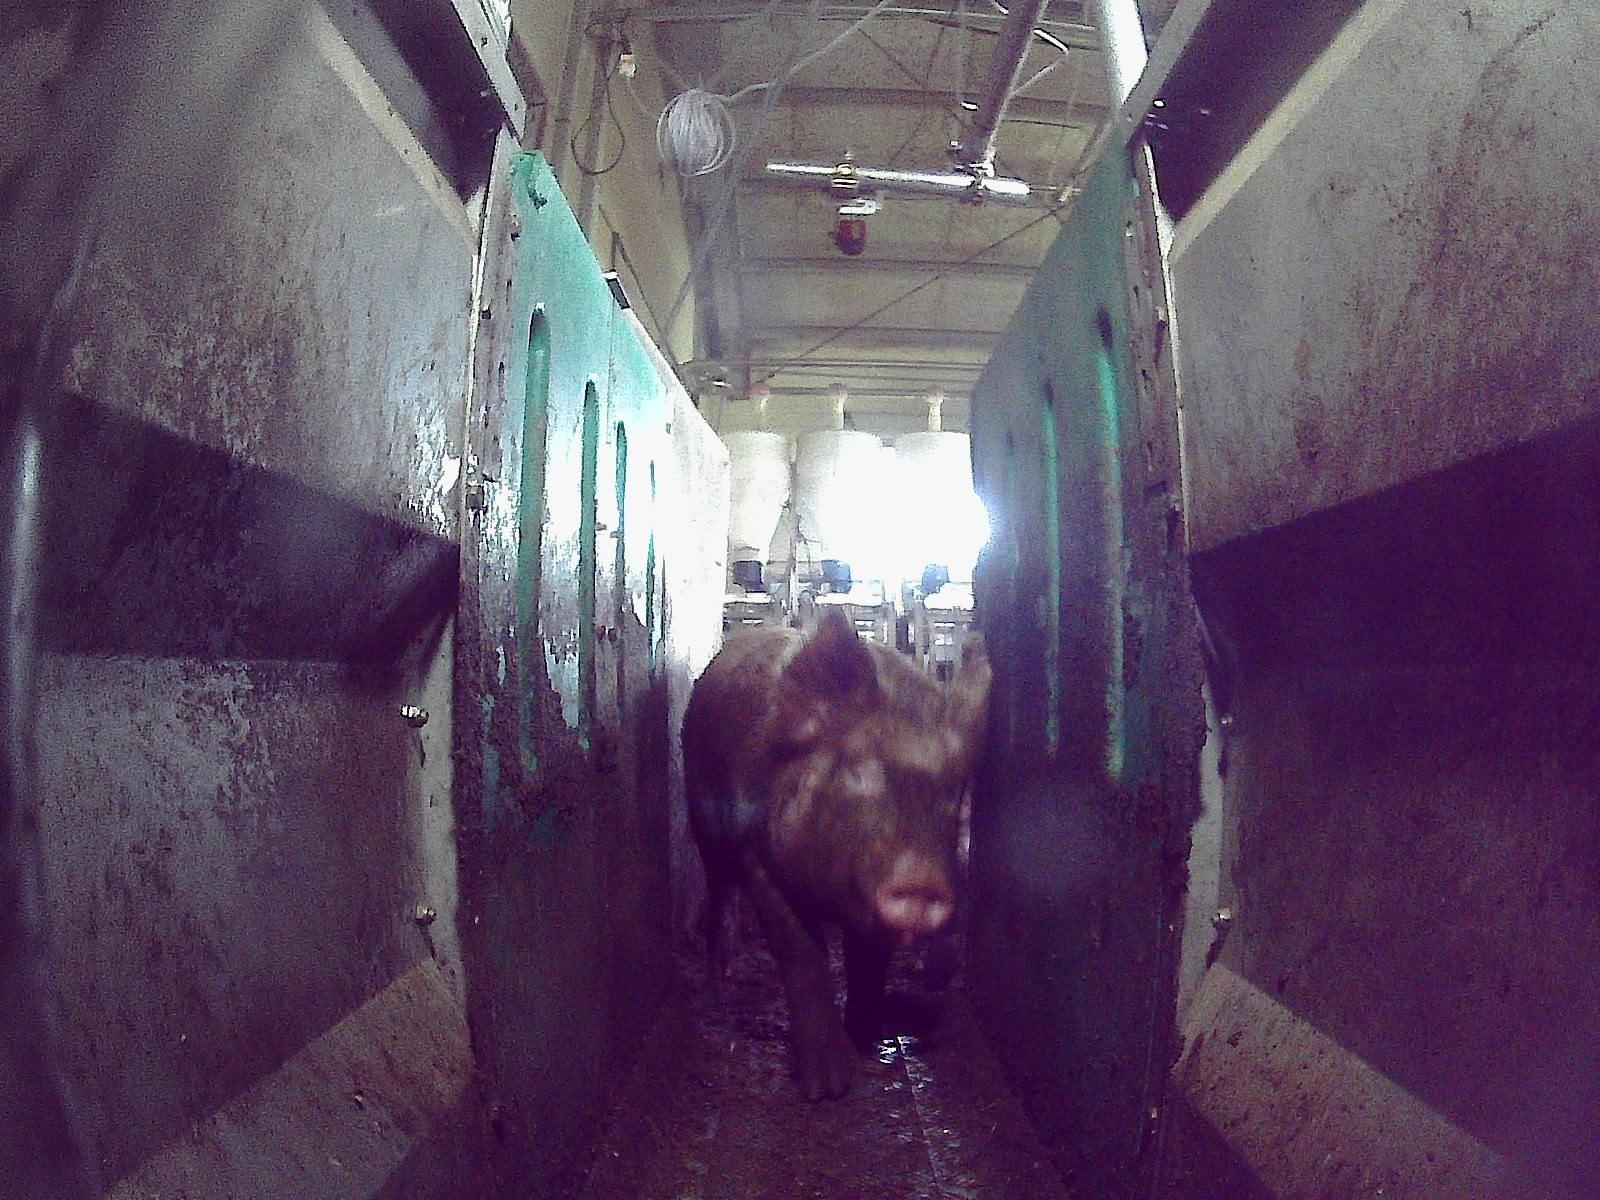Face: (796, 683, 969, 940)
